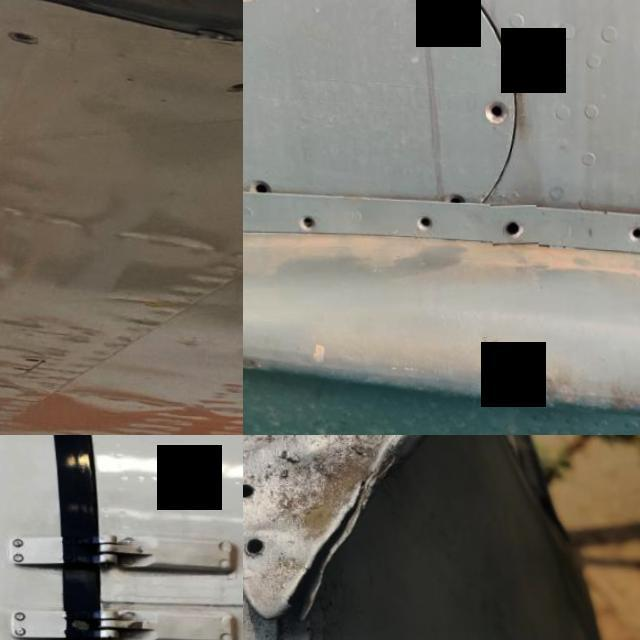Crack: (254, 435, 423, 640)
Missing_Fastener: (423, 172, 478, 221), (468, 88, 520, 138), (486, 203, 534, 249), (425, 0, 484, 35), (243, 162, 283, 213), (282, 201, 326, 240), (398, 202, 438, 239), (610, 208, 640, 252), (7, 30, 37, 46), (223, 78, 243, 94)
